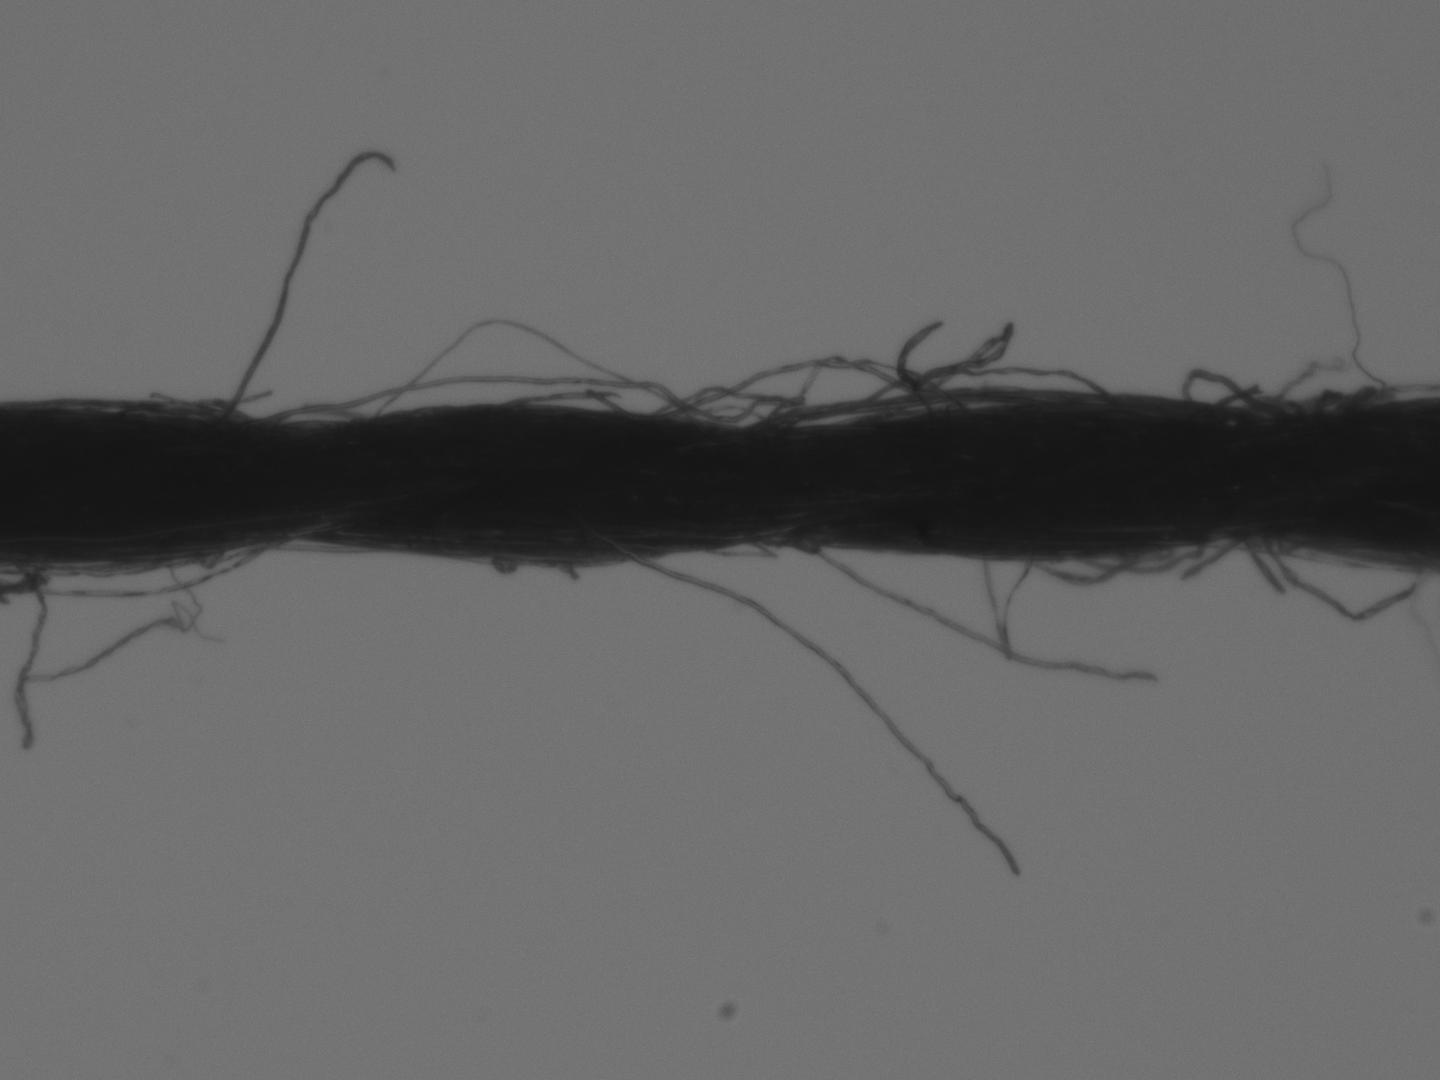loop_fiber: (671, 358, 934, 424), (863, 369, 1103, 417), (651, 382, 782, 425), (1024, 546, 1140, 588), (1178, 368, 1281, 414), (511, 387, 632, 416), (1079, 543, 1198, 573), (251, 403, 356, 425), (1319, 386, 1372, 412), (485, 555, 516, 579), (189, 548, 220, 571)
protruding_fiber: (633, 551, 1027, 877), (220, 144, 393, 423), (1261, 537, 1418, 631), (1235, 528, 1282, 599), (1177, 537, 1230, 582)
